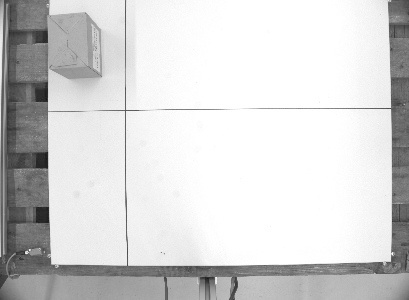b5: (43, 10, 104, 80)
